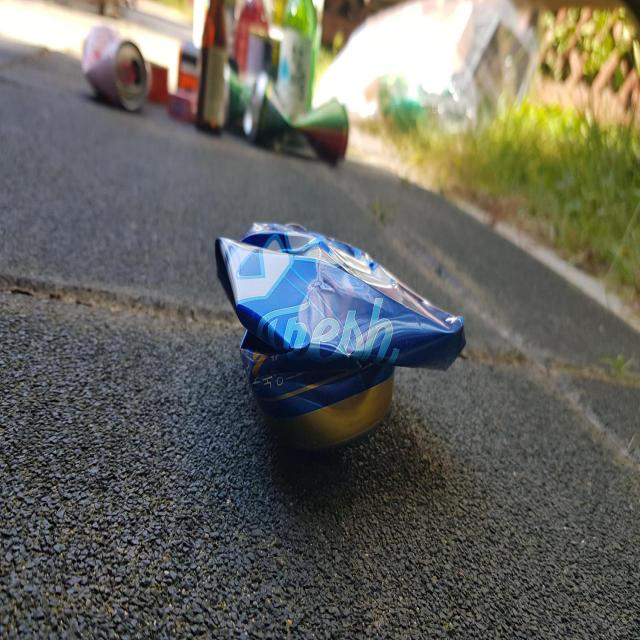can: (215, 222, 466, 449), (243, 71, 349, 161), (81, 25, 150, 109)
